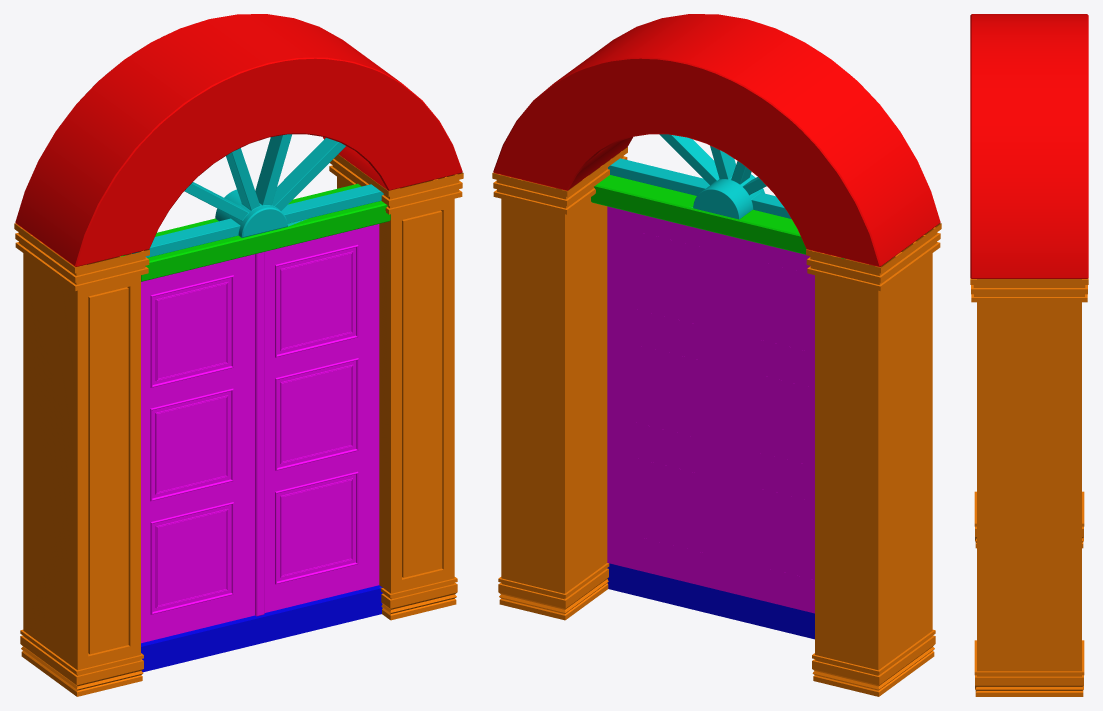
Rendered from uploads_files_5417324_bab.fbx.
The picture shows the model from 3 angles, left to right: view 1: azimuth 30°, elevation 25°; view 2: azimuth 150°, elevation 25°; view 3: azimuth 270°, elevation 25°; orthographic projection. The views are drawn at different scales.
Parts seen in each view (by area): view 1: object9, object11, object15, object14, object12, object10, object1, object8, object7, object13, object6, object3 (+3 smaller); view 2: object9, object11, object12, object15, object14, object10, object8, object1, object7, object13, object3, object4 (+2 smaller); view 3: object12, object9, object11.
Part boxes in pixels (x1,y1,x2,y2): object9: [15, 14, 462, 266]; object11: [14, 223, 149, 696]; object15: [254, 224, 379, 615]; object14: [141, 254, 254, 643]; object12: [329, 154, 463, 620]; object10: [132, 134, 383, 257]; object1: [141, 585, 382, 672]; object8: [121, 183, 390, 281]; object7: [255, 252, 264, 616]; object13: [275, 471, 358, 584]; object6: [150, 275, 233, 387]; object3: [275, 244, 358, 357]; object9: [493, 14, 940, 266]; object11: [806, 223, 941, 696]; object12: [492, 147, 627, 620]; object15: [607, 206, 732, 593]; object14: [732, 237, 814, 613]; object10: [608, 134, 791, 219]; object8: [591, 175, 845, 258]; object1: [607, 563, 814, 639]; object7: [724, 235, 731, 591]; object13: [630, 452, 709, 558]; object3: [630, 225, 709, 332]; object4: [755, 369, 814, 471]; object12: [970, 278, 1088, 696]; object9: [970, 14, 1088, 278]; object11: [974, 491, 1084, 548].
Size of the model in its own units: 1799 by 2609 by 488.
